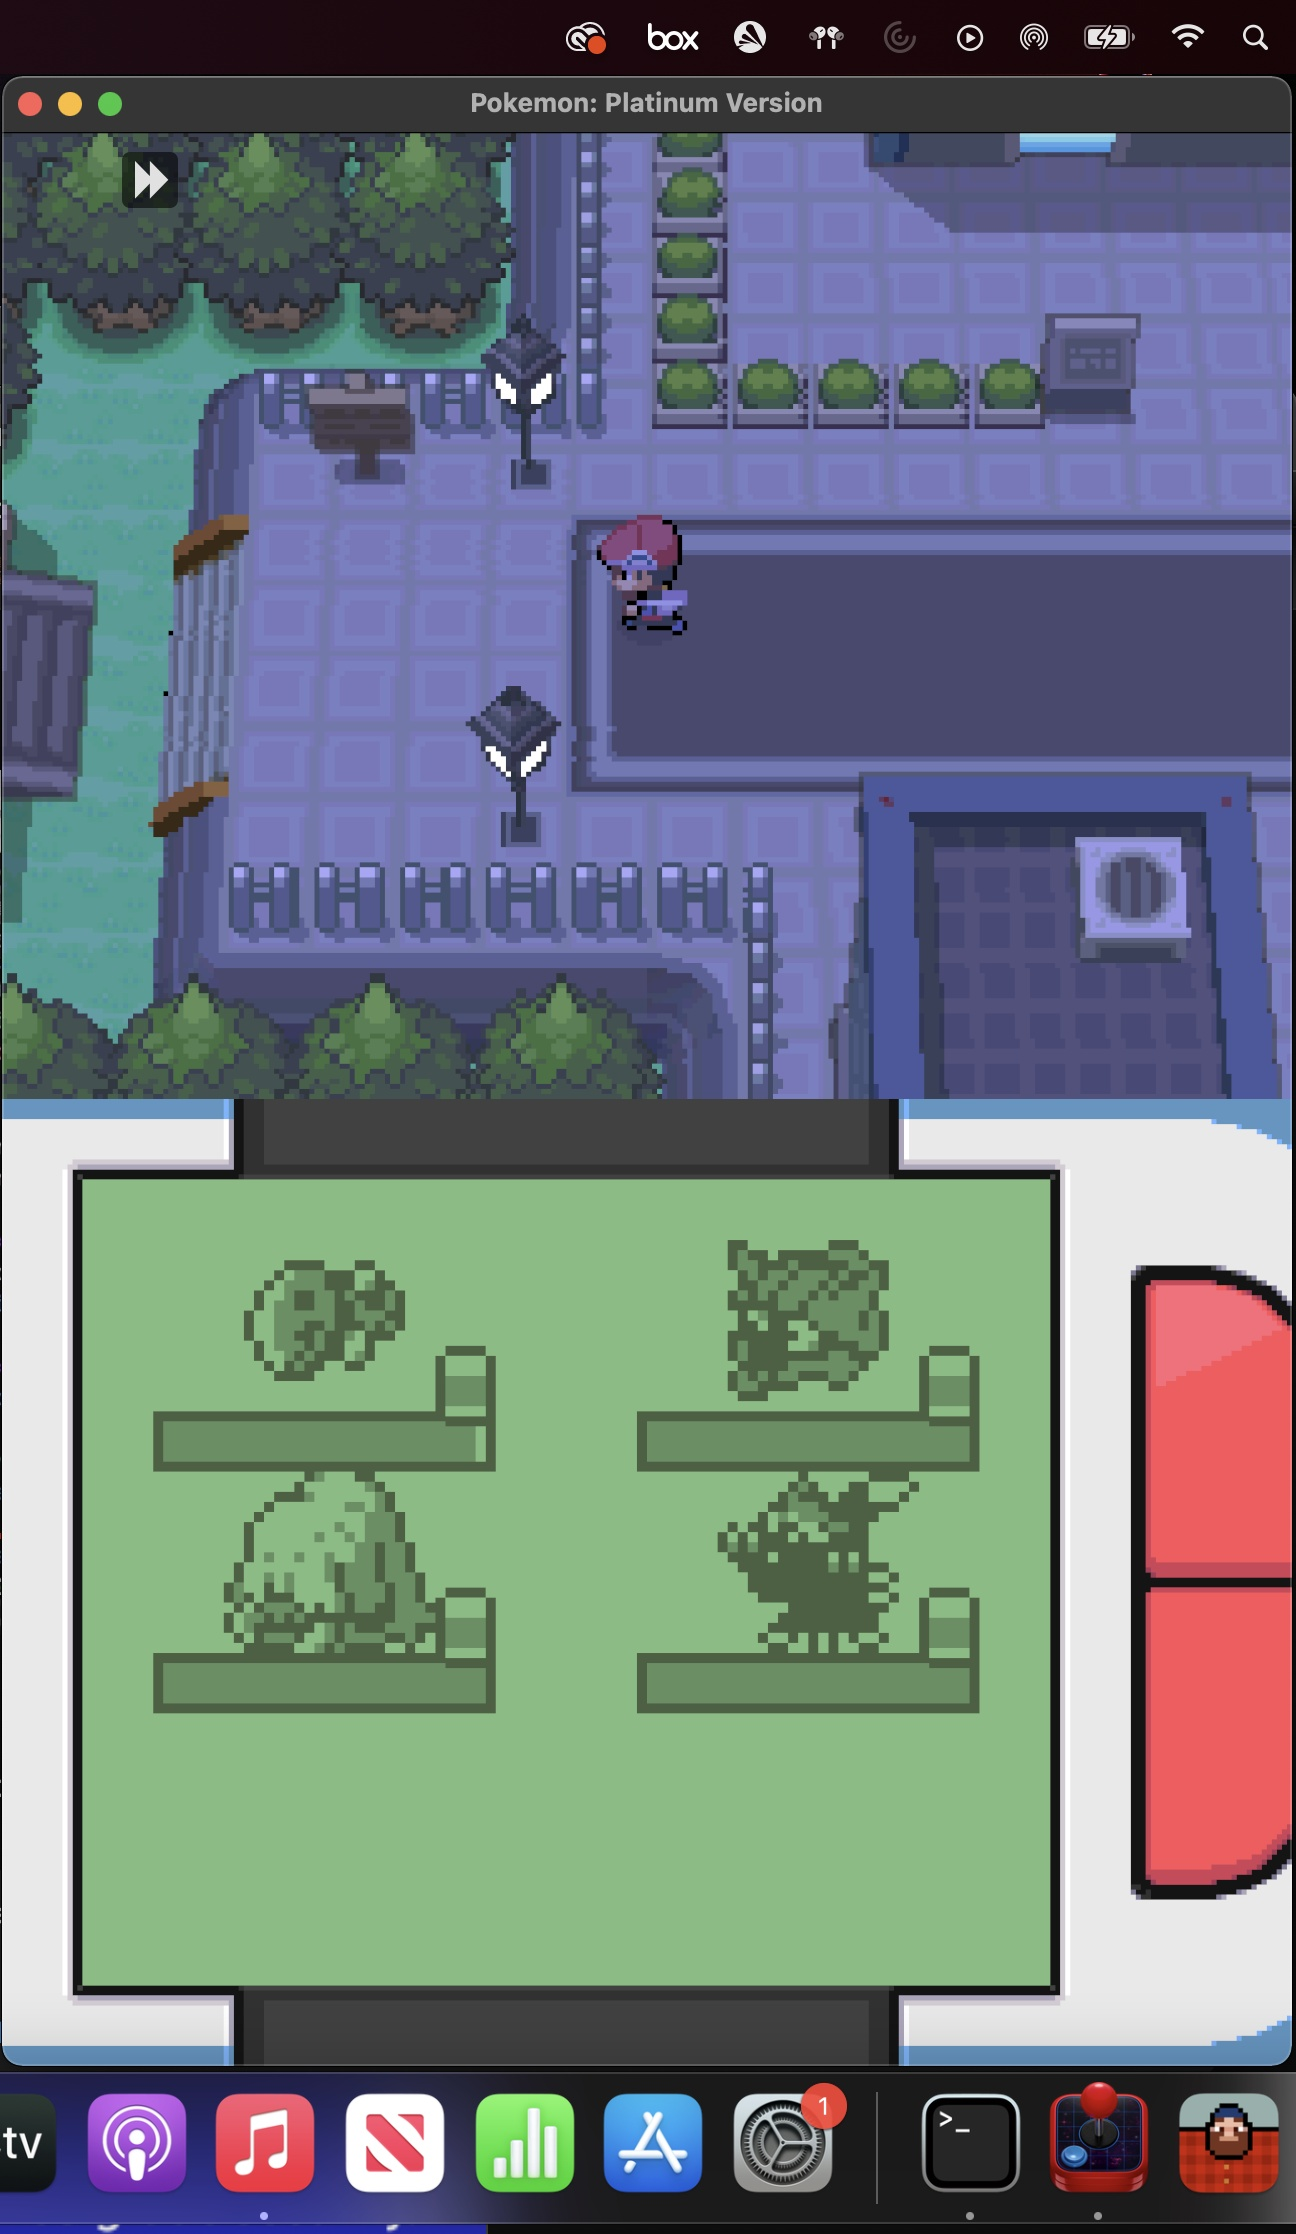player: (582, 507, 697, 645)
turn right: (280, 326, 576, 500)
